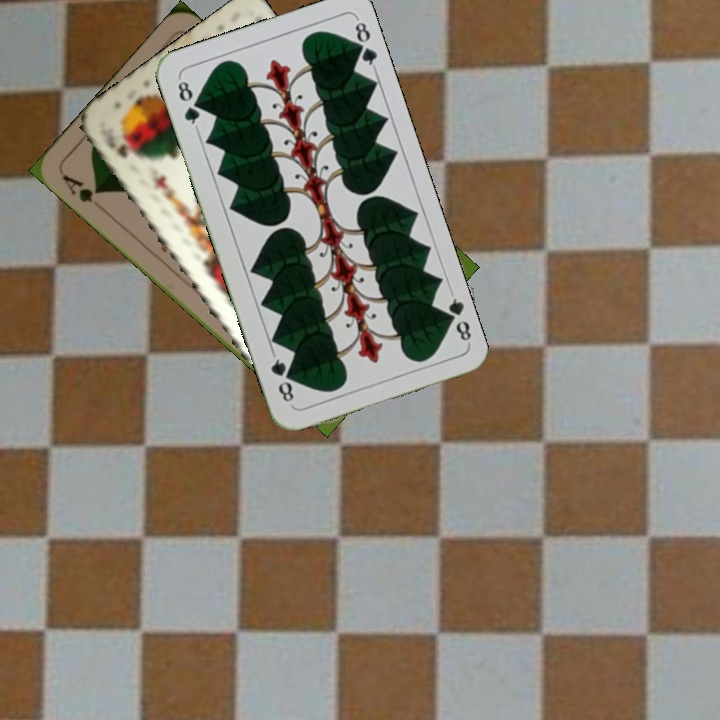G8: (438, 288, 474, 346), (173, 74, 203, 132)
GA: (58, 170, 104, 205)
SK: (101, 130, 139, 161)
